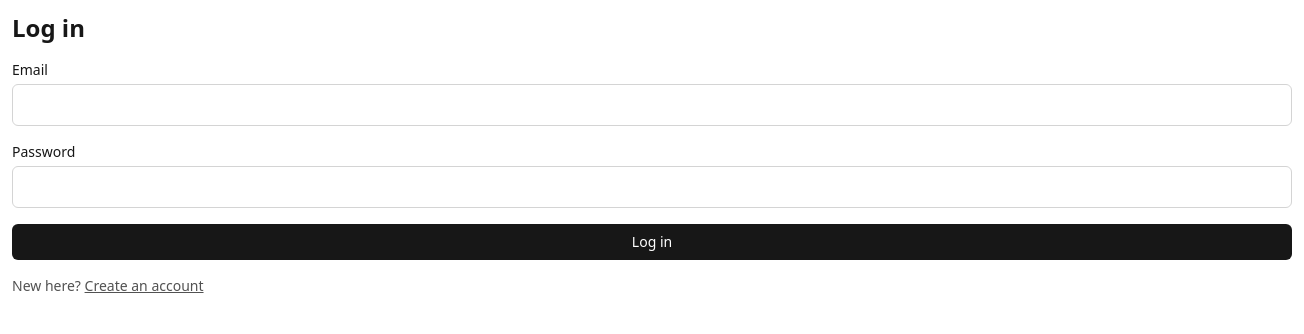
Scenario: LoginForm › shows a validation error under its field
The width and height of the screenshot is (1304, 334).
In the field labelled "Email": (652, 105) [12,84,1292,126], type "alice@example"
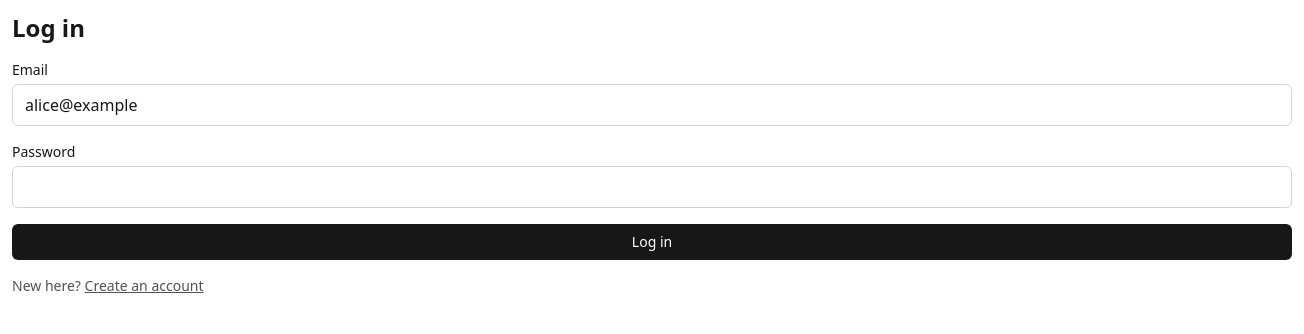
In the password field labelled "Password": (652, 187) [12,166,1292,208], type "correct horse battery"
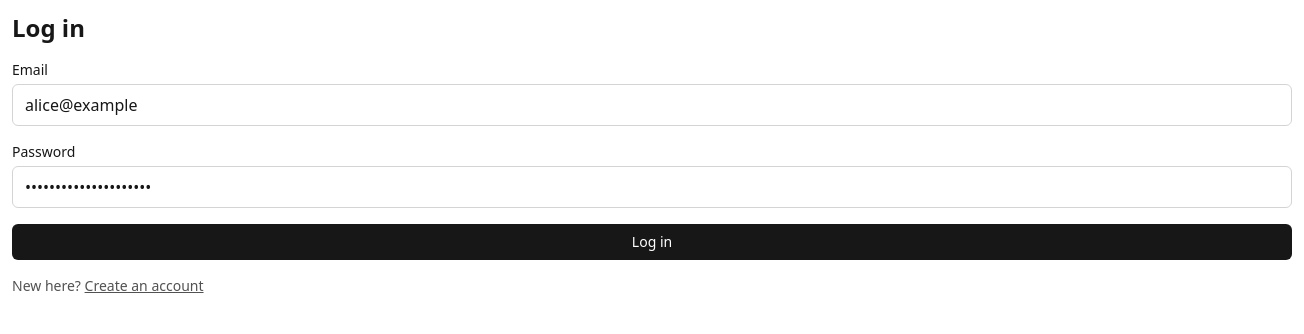
Click the button "Log in": click(652, 242) [12,224,1292,260]
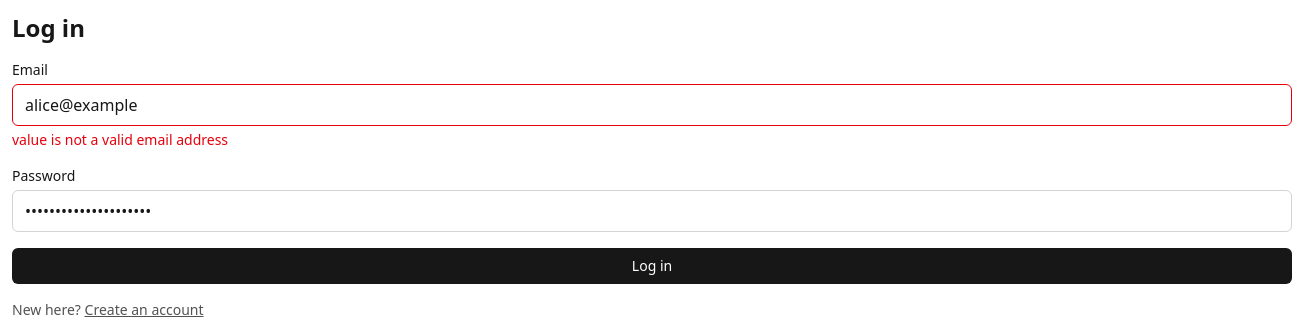
Check: the text "value is not a valid email address" is shown, box [12,130,228,149]
